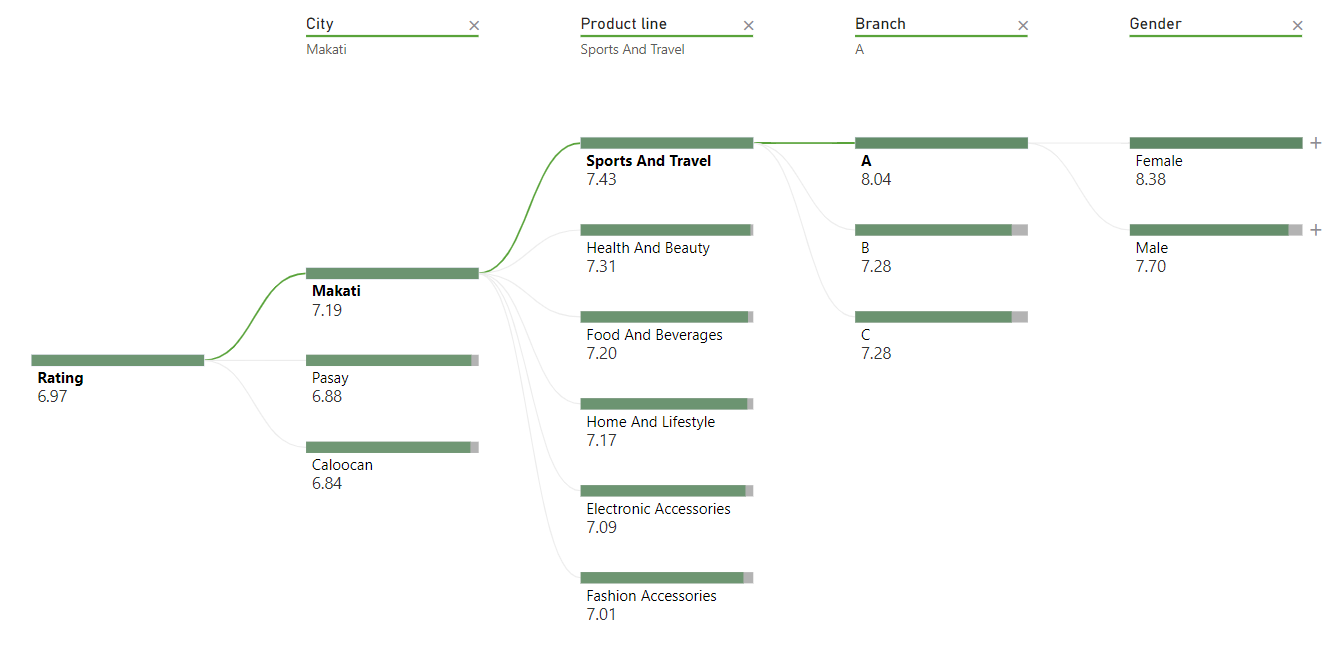

What the dashboard file says about the page in this screenshot:
{"tool":"powerbi","page":{"name":"Decomposition Tree","canvas":[1280,720],"ordinal":2},"visuals":[{"type":"decompositionTreeVisual","fields":{"Analyze":["Avg(Supermarket_Dataset.Rating)"],"ExplainBy":["Supermarket_Dataset.City","Supermarket_Dataset.Product line","Supermarket_Dataset.Branch","Supermarket_Dataset.Gender","Supermarket_Dataset.Customer type","Supermarket_Dataset.Month","Supermarket_Dataset.Payment"]},"box":[0,16.2,1215,631.2],"z":0}]}

Visuals, with their boxes on the page's 1280x720 design canvas (x1, y1, x2, y2). These are canvas units, not pixel positions in the 1342x661 screenshot, which may show the page scaled, cropped or inside an application window:
decompositionTreeVisual - Avg(Supermarket_Dataset.Rating) x Supermarket_Dataset.City: bbox(0, 16, 1215, 647)
